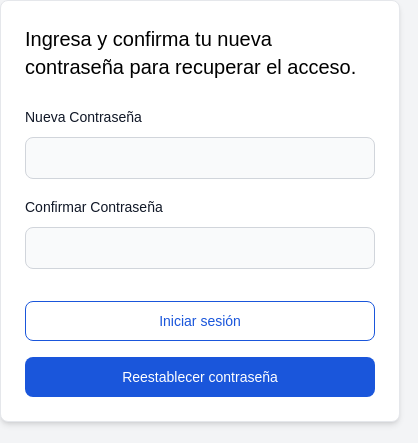
Test: ResetPasswordCard › Reset Password submit › Given a user password and confirm password, see tick in button
Type "alotofcharactersonpasswordA1@" into the password field with test id "password" at (200, 158), box [25,137,375,179]
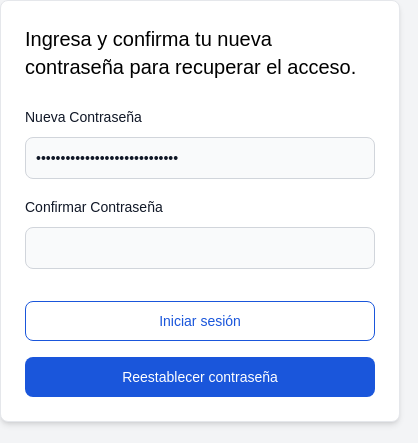
Type "alotofcharactersonpasswordA1@" into the password field with test id "confirmPassword" at (200, 248), box [25,227,375,269]
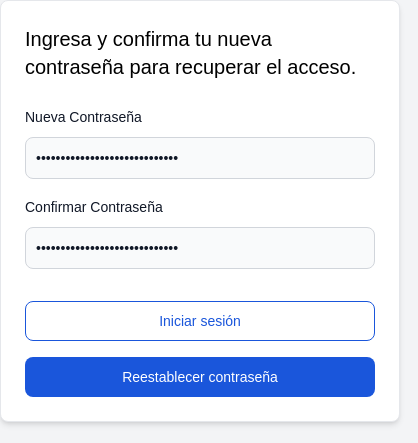
Click the button "Reestablecer contraseña" at (200, 377), box [25,357,375,397]
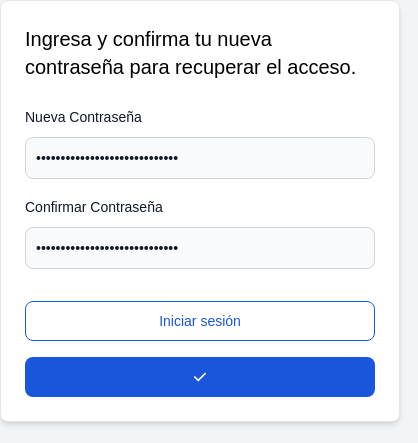
Check: the icon with test id "check-icon" is shown, box [193,370,207,384]
